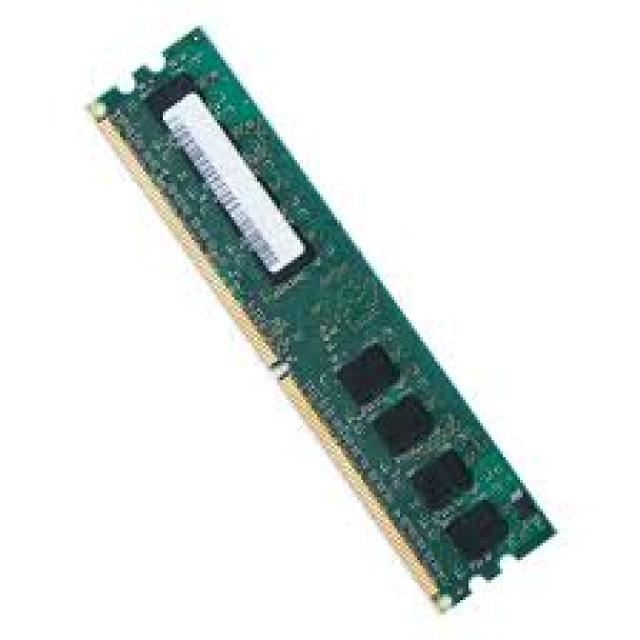Ram: (66, 43, 580, 597)
